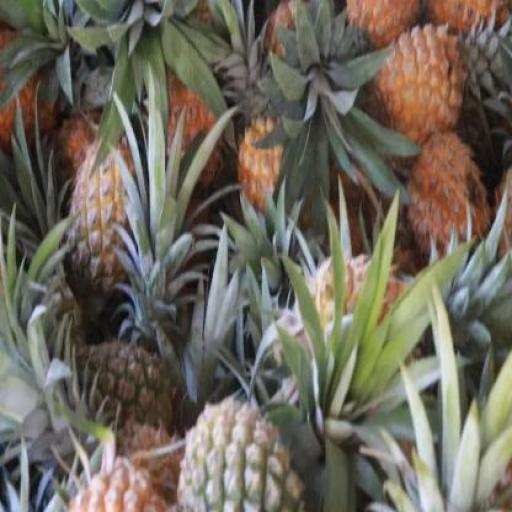------------------------------: (62, 145, 136, 302)
Pineapple - v8 v1: (402, 138, 492, 268), (376, 26, 466, 150)
